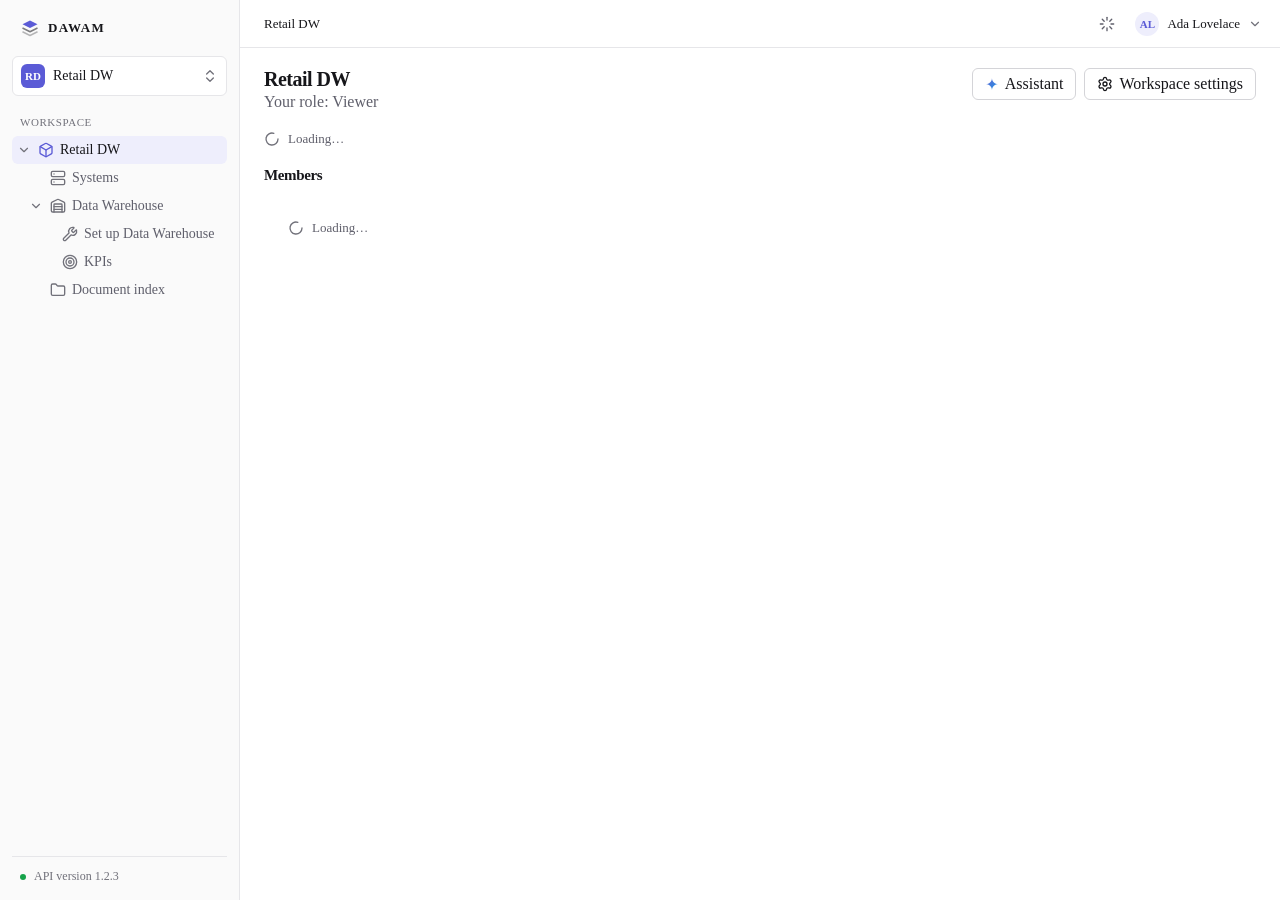
Test: the assistant's chat panel › shows the progress of a job the assistant started
This screenshot has width=1280, height=900.
Click the button "✦ Assistant".
click(1024, 84)  # box [972,68,1076,100]
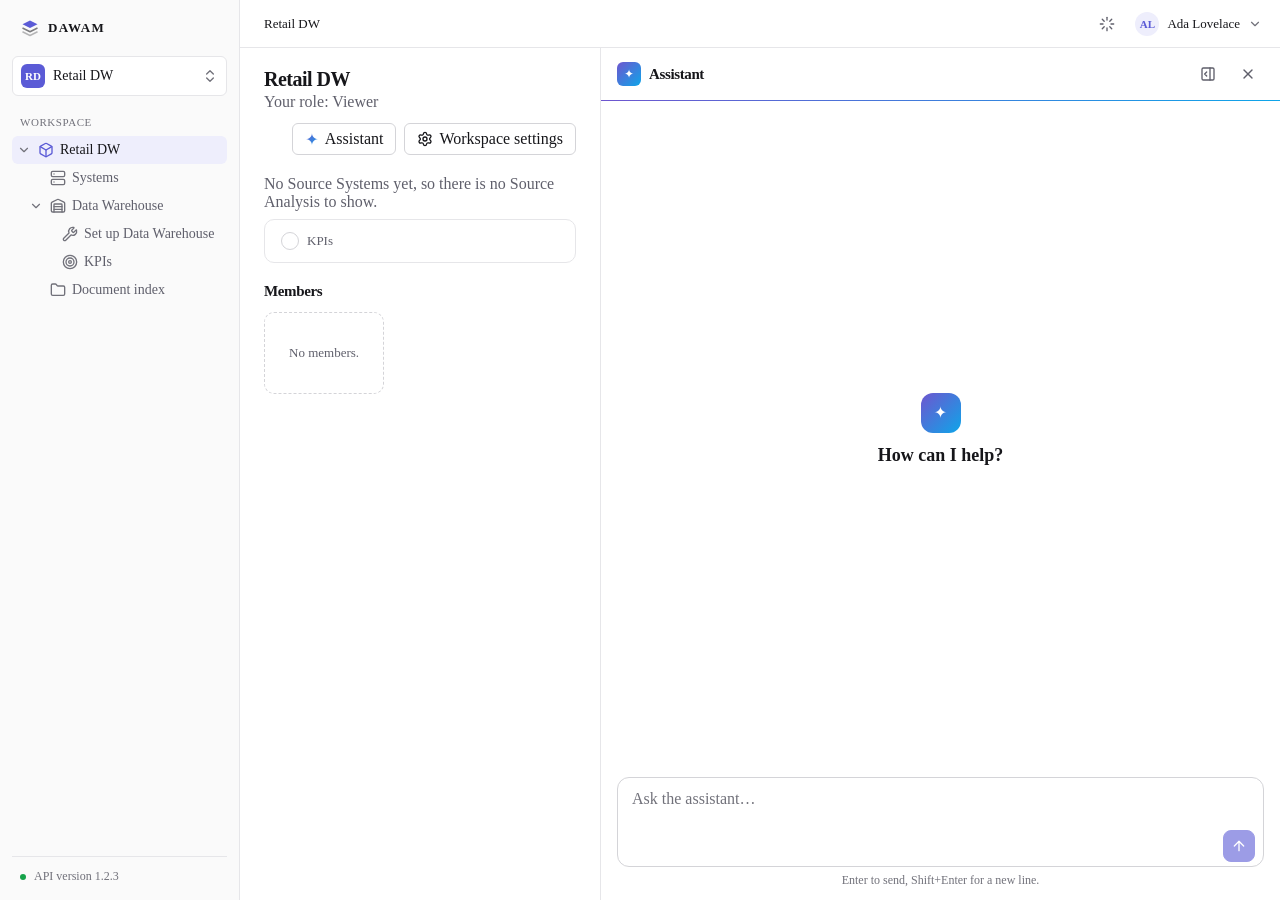
Type "Explore everything" into the text box labelled "Ask the assistant".
click(940, 804); type("Explore everything")  # box [622,782,1259,826]
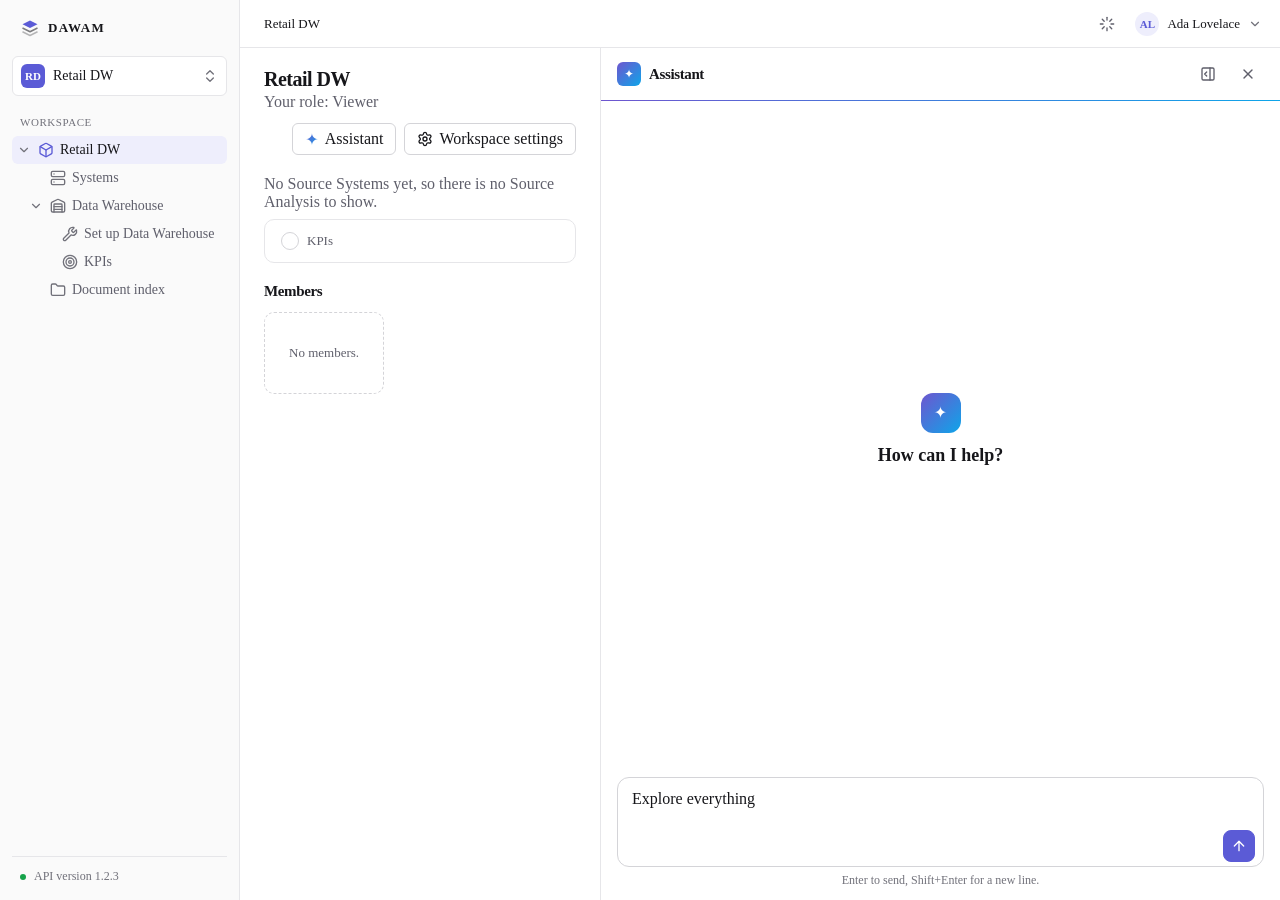
Click the button named "Send".
click(1239, 846)  # box [1223,830,1255,862]
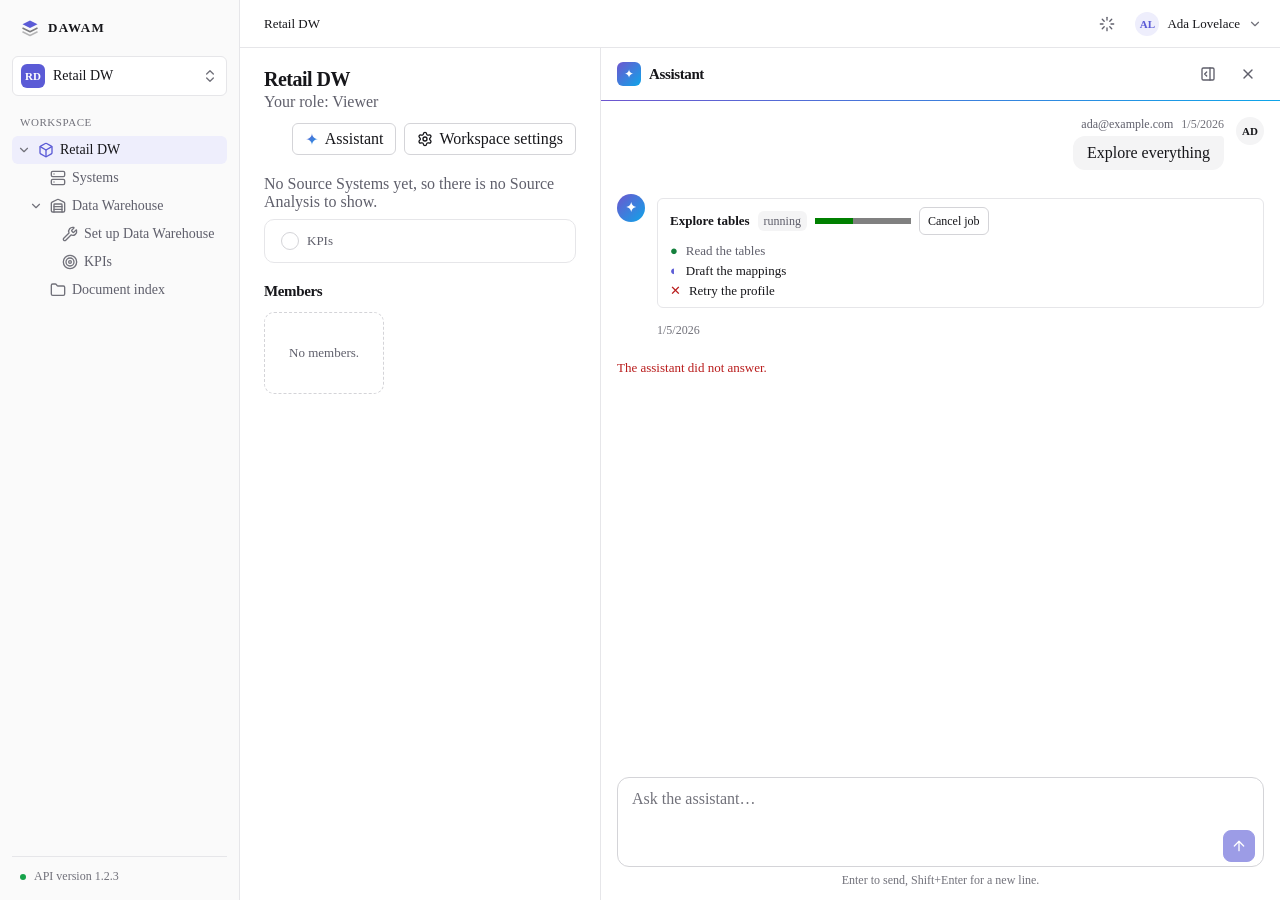
Check: the text "running" is shown, box [758,211,807,231]
Check: the button "Cancel job" is shown, box [919,207,989,235]
Check: the list item "● Read the tables" is shown, box [669,242,765,258]
